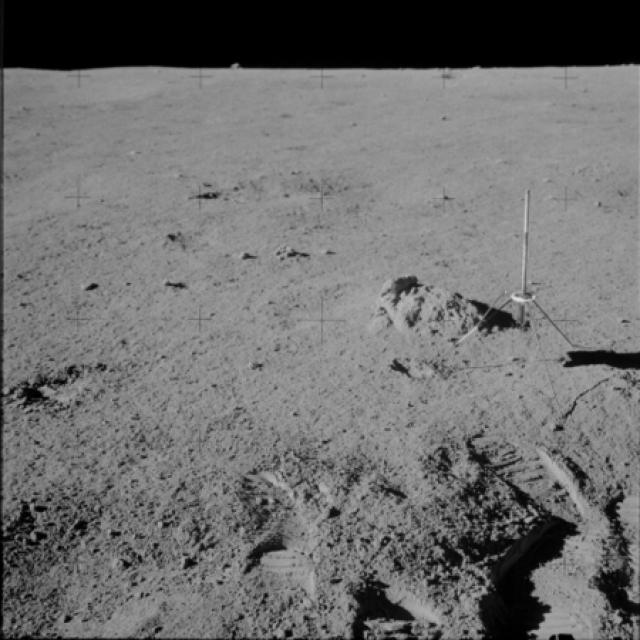crater: (0, 352, 125, 422), (181, 167, 381, 208), (386, 348, 437, 387)
rock: (358, 267, 499, 343), (274, 238, 317, 266), (221, 246, 250, 267), (69, 280, 107, 296), (159, 279, 189, 299), (312, 242, 348, 258)
